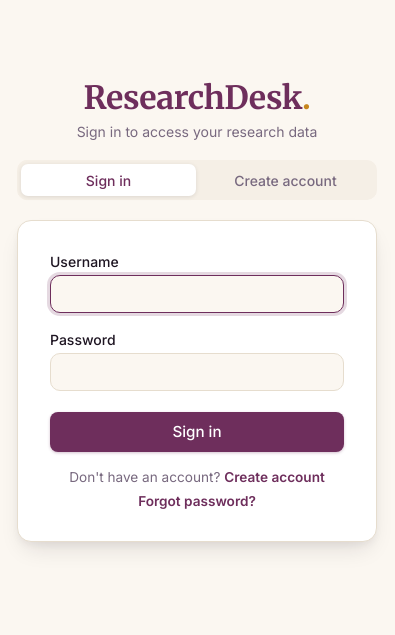
it: switches to register mode when "Create account" tab is clicked
Click the 2nd button with class "login-tab-outer" at {"x": 286, "y": 180}, box [198, 164, 373, 196]
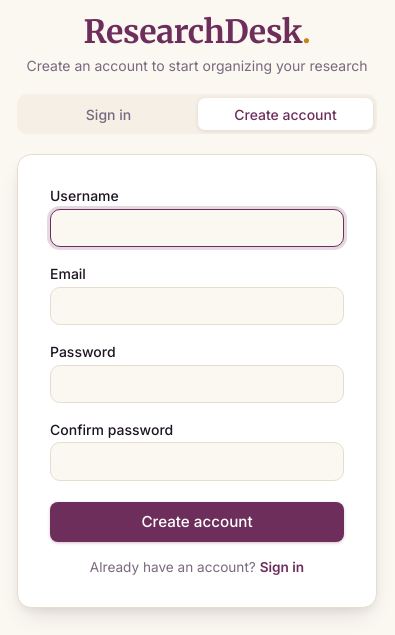
Check: the text "Create an account to start organizing your research" is shown, box [26, 57, 368, 74]
